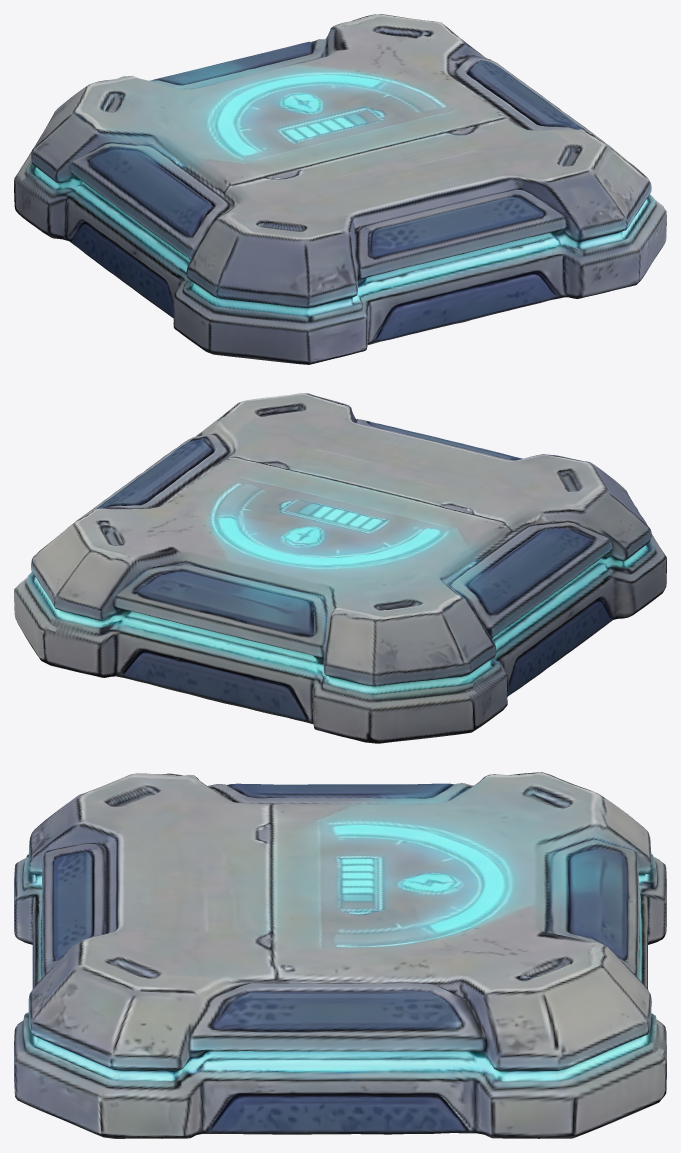
Rendered from lod_shield_recharge.fbx.
The picture shows the model from 3 angles, top to bottom: view 1: azimuth 30°, elevation 25°; view 2: azimuth 150°, elevation 25°; view 3: azimuth 270°, elevation 25°; orthographic projection. The views are drawn at different scales.
Visible parts, largest first — view 1: model_LOD0; view 2: model_LOD0; view 3: model_LOD0.
Boxes of the visible parts, x1,y1,x2,y2 form: model_LOD0: (14,14,666,364); model_LOD0: (14,393,666,743); model_LOD0: (14,772,666,1138).
Size of what is drawn, in the model's own units: 188 by 41.24 by 190.
